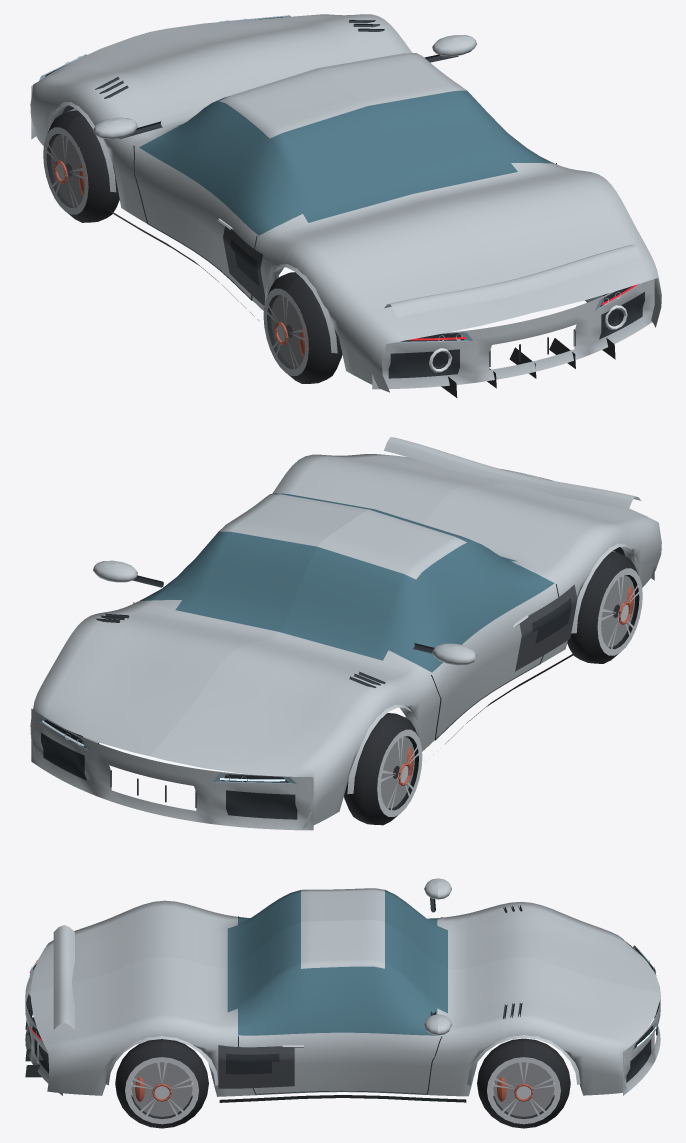
File: cyclone_rs_low.glb
3 views of the same model, one above another, from view 1: azimuth 30°, elevation 25°; view 2: azimuth 150°, elevation 25°; view 3: azimuth 270°, elevation 25° (orthographic). The views are drawn at different scales.
Visible parts, largest first — view 1: Body, Wheel_2, Wheel_0; view 2: Body, Wheel_0, Wheel_2; view 3: Body, Wheel_1, Wheel_3.
Part boxes in pixels (x1,y1,x2,y2): Body: (30,14,661,397); Wheel_2: (263,272,342,383); Wheel_0: (43,110,119,222); Body: (30,437,661,830); Wheel_0: (344,713,422,825); Wheel_2: (567,552,642,663); Body: (25,878,660,1102); Wheel_1: (477,1038,570,1128); Wheel_3: (115,1039,208,1128).
Bounding box in the file's own units: 2.7 × 1.2 × 4.91.
